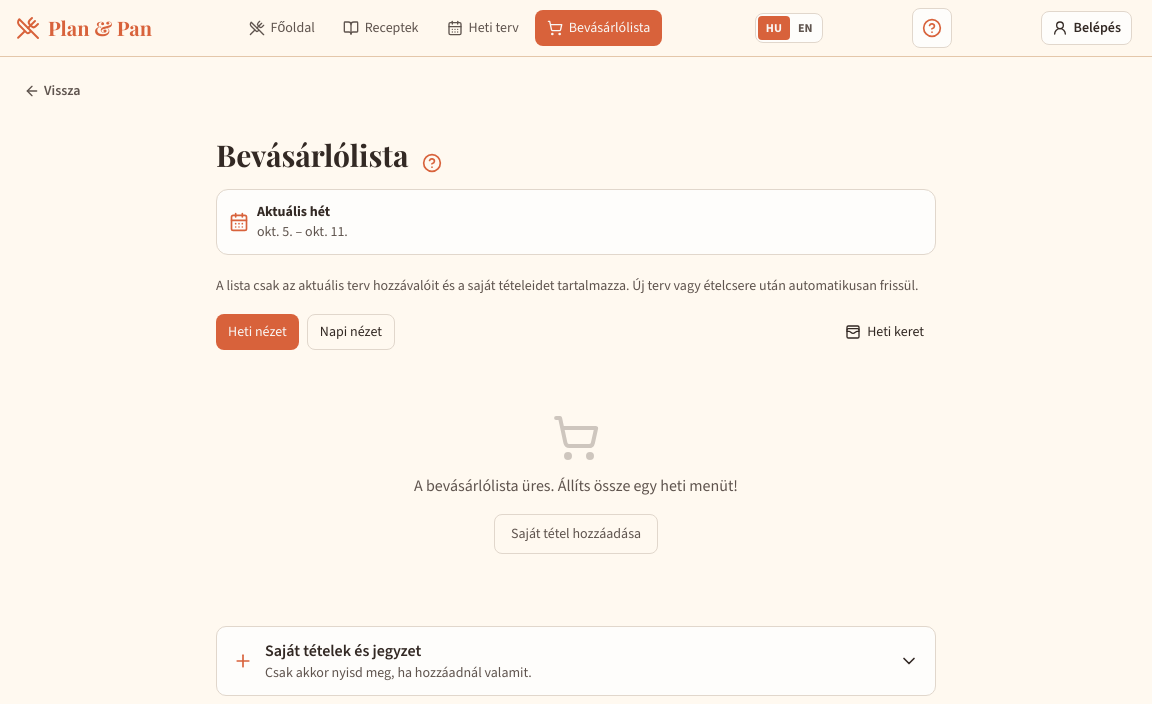
planner meal cards › returns from the shopping list to the active weekly menu
Click the link "Vissza": (52, 90) [24,81,80,100]
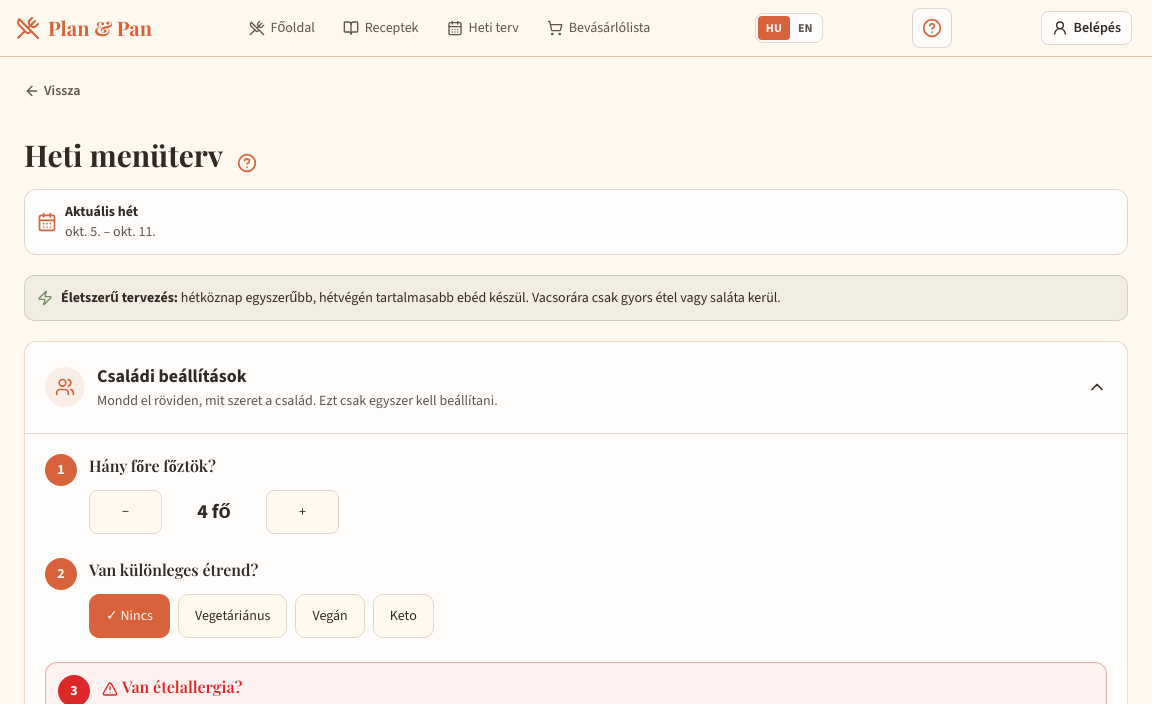
Check: the heading "Heti menüterv" is shown, box [24,137,223,173]
